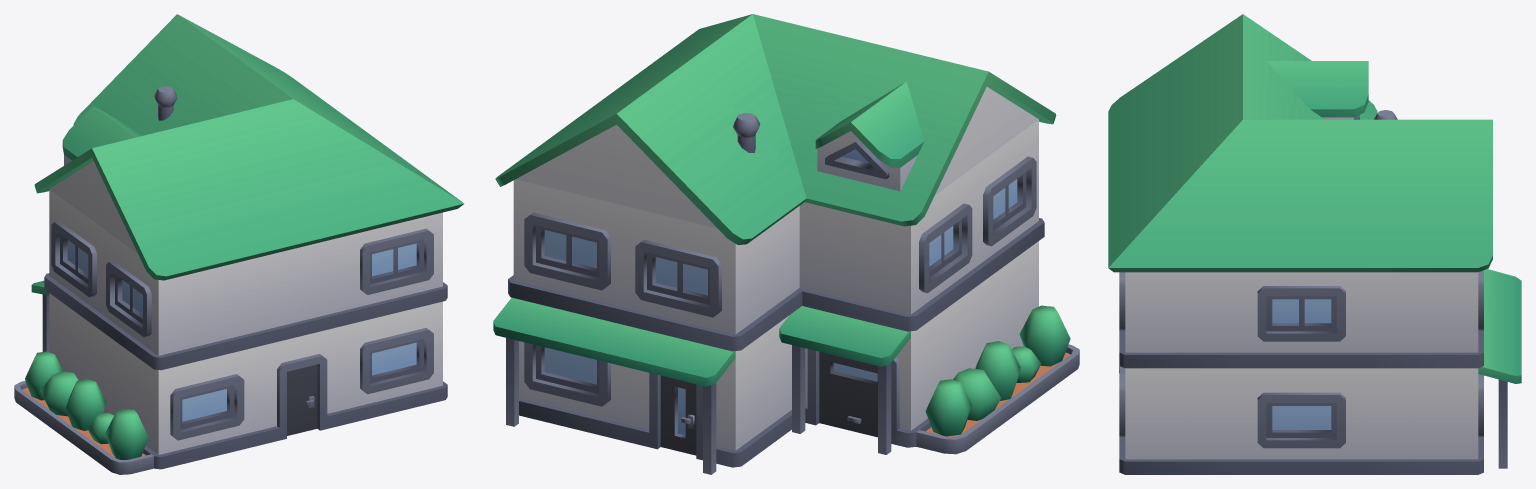
File: house_5.fbx
3 renders of one model, left to right at view 1: azimuth 30°, elevation 25°; view 2: azimuth 150°, elevation 25°; view 3: azimuth 270°, elevation 25°, orthographic. The views are drawn at different scales.
Visible parts, largest first — view 1: house_5; view 2: house_5; view 3: house_5.
Boxes of the visible parts, x1,y1,x2,y2 form: house_5: (14, 14, 464, 474); house_5: (493, 14, 1079, 474); house_5: (1108, 14, 1521, 474).
Size of the model in its own units: 1.43 by 1.14 by 1.41.
Materials: 1 (1 with a texture image).
